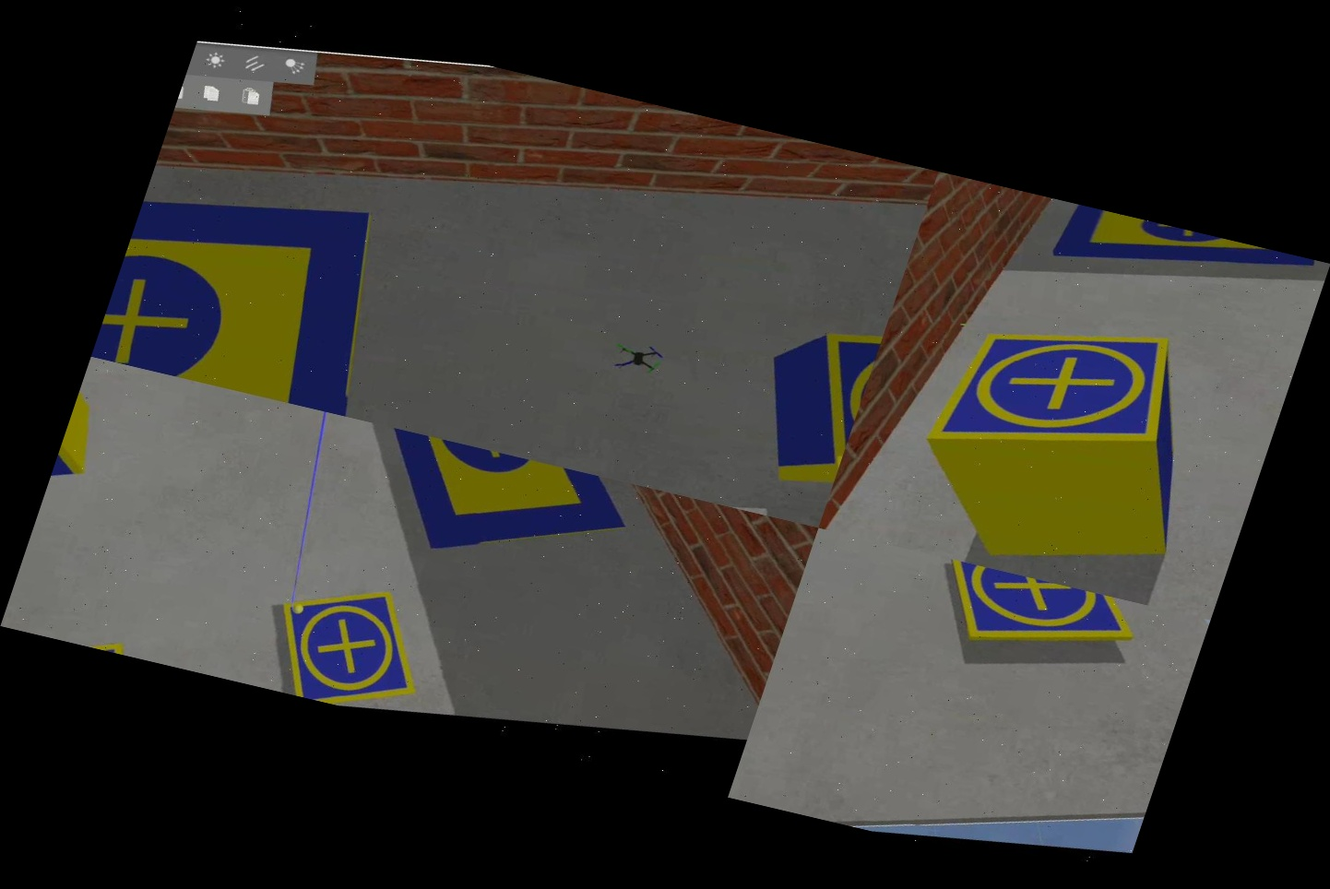large_base: (90, 161, 421, 419), (305, 416, 648, 604), (1038, 199, 1320, 315)
small_base: (899, 284, 1195, 492), (251, 563, 452, 722), (915, 557, 1148, 683), (779, 301, 890, 483), (1, 610, 138, 657)
